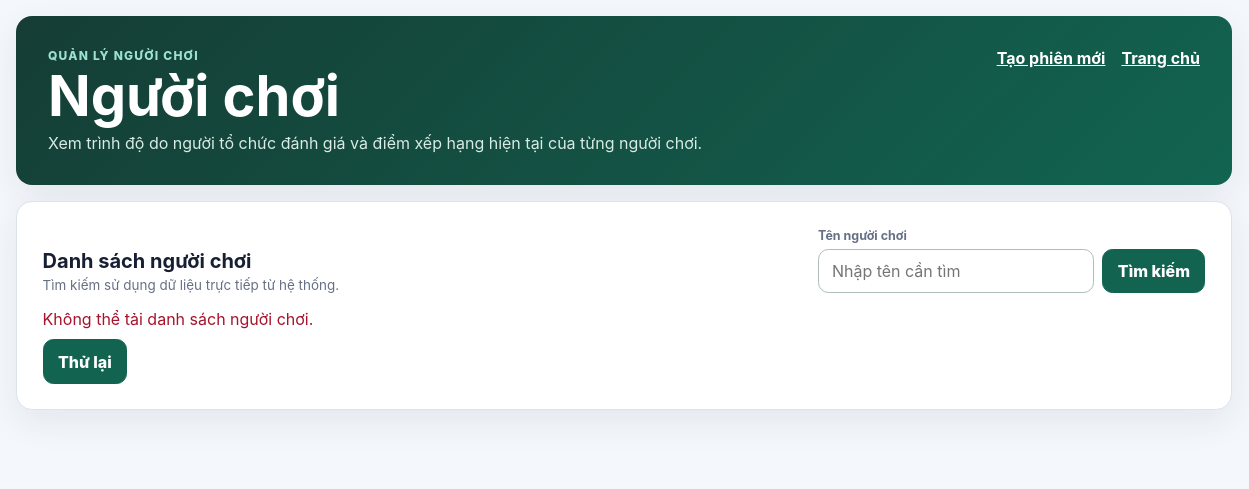
Test: PlayerListPage › keeps a scoped error with a retry action
Expected: the message shows "Không thể tải", [43,309,313,329]
Click the button "Thử lại" at (85, 362), box [43,339,127,384]
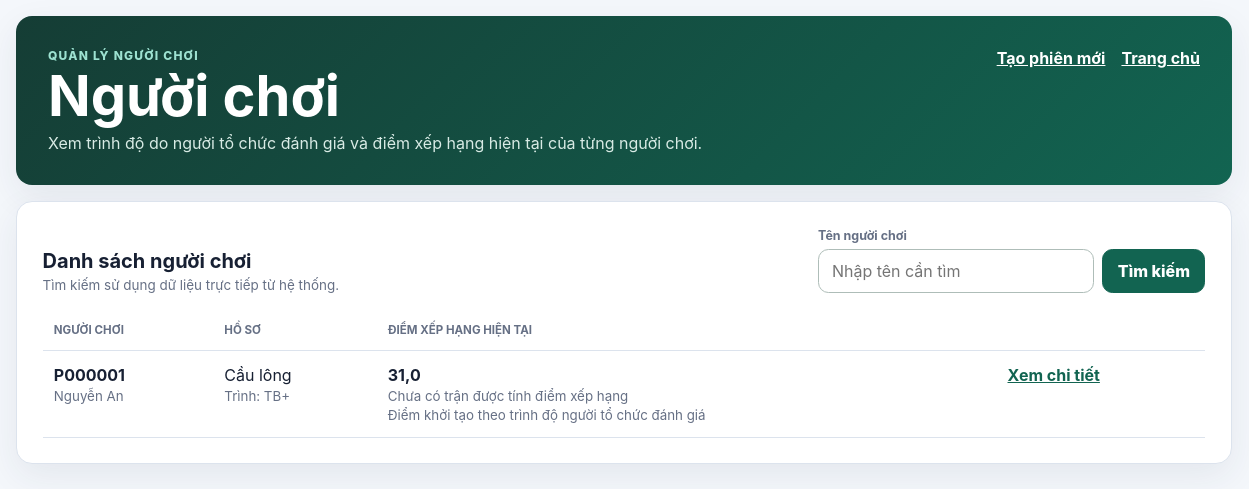
Now the text "Nguyễn An" is shown, box [54,388,124,404]
